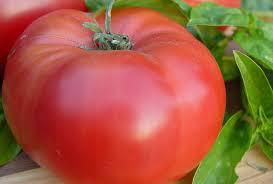tomato: (6, 6, 224, 179)
